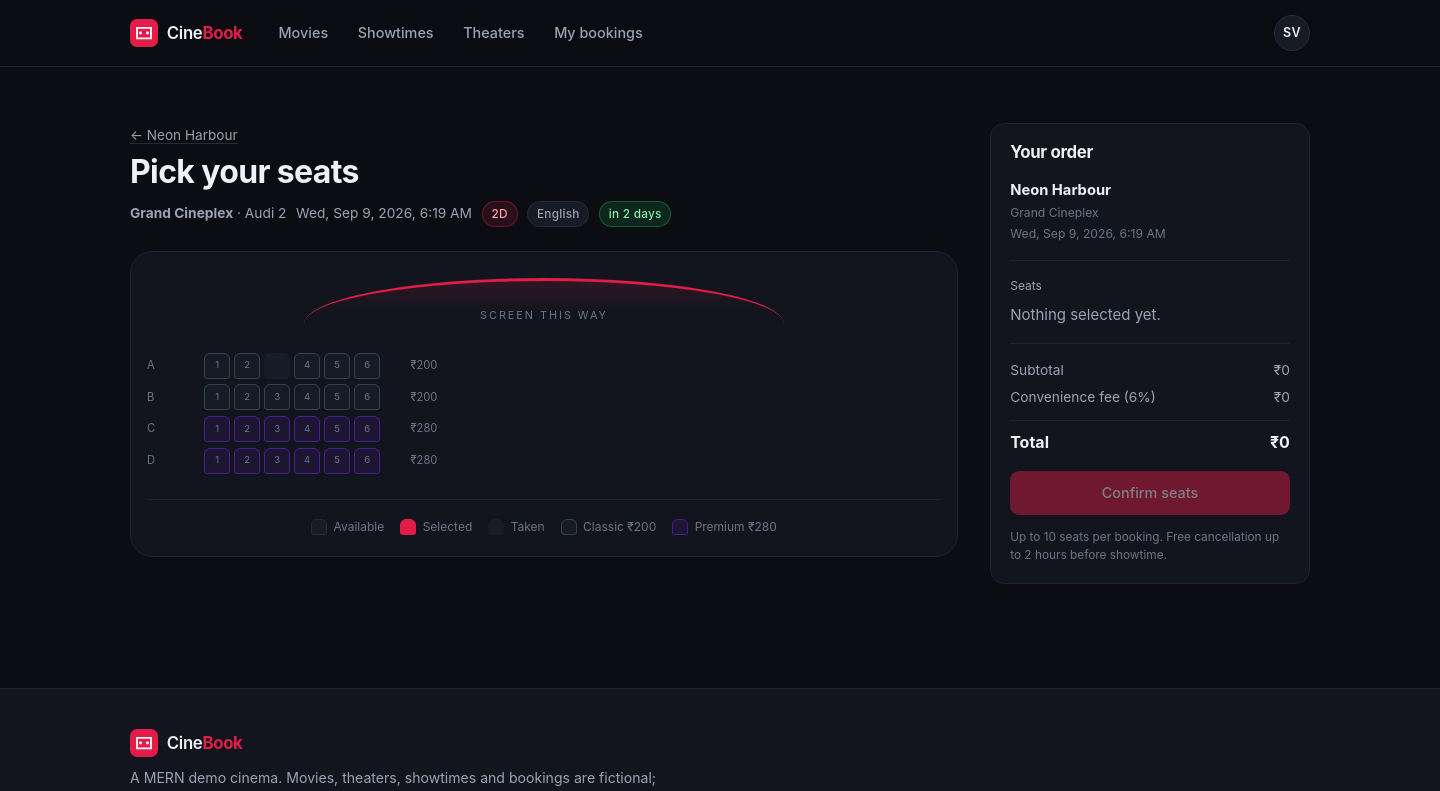
Test: seat booking › a seat taken mid-flow shows the conflict and drops it from the selection
This screenshot has width=1440, height=791.
Expected: the heading "Pick your seats" is shown, x1=130 y1=152 x2=359 y2=191
Click the 2nd button "4" at (307, 397), box x1=294 y1=384 x2=320 y2=410
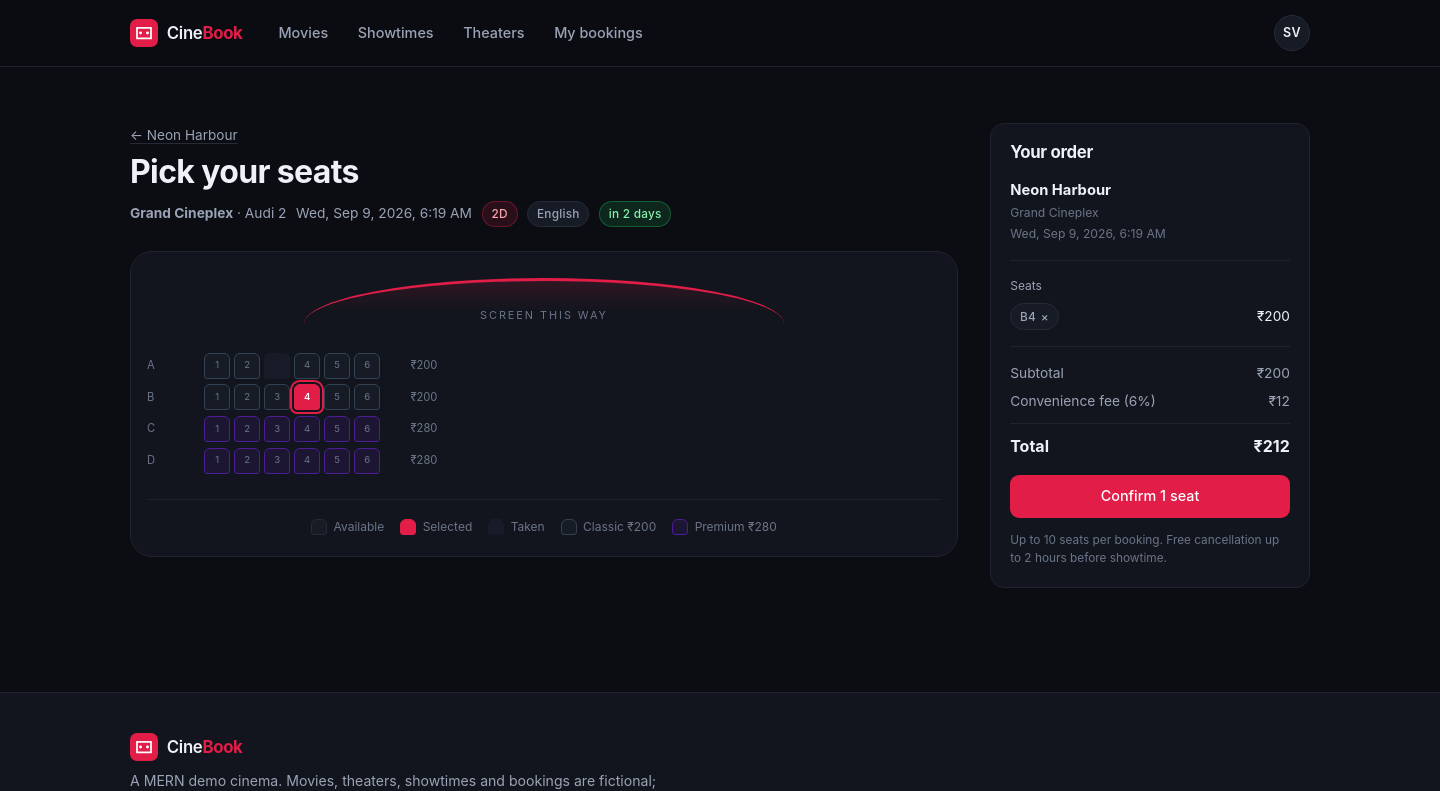
Click the button "Confirm 1 seat" at (1150, 496), box x1=1010 y1=475 x2=1290 y2=518
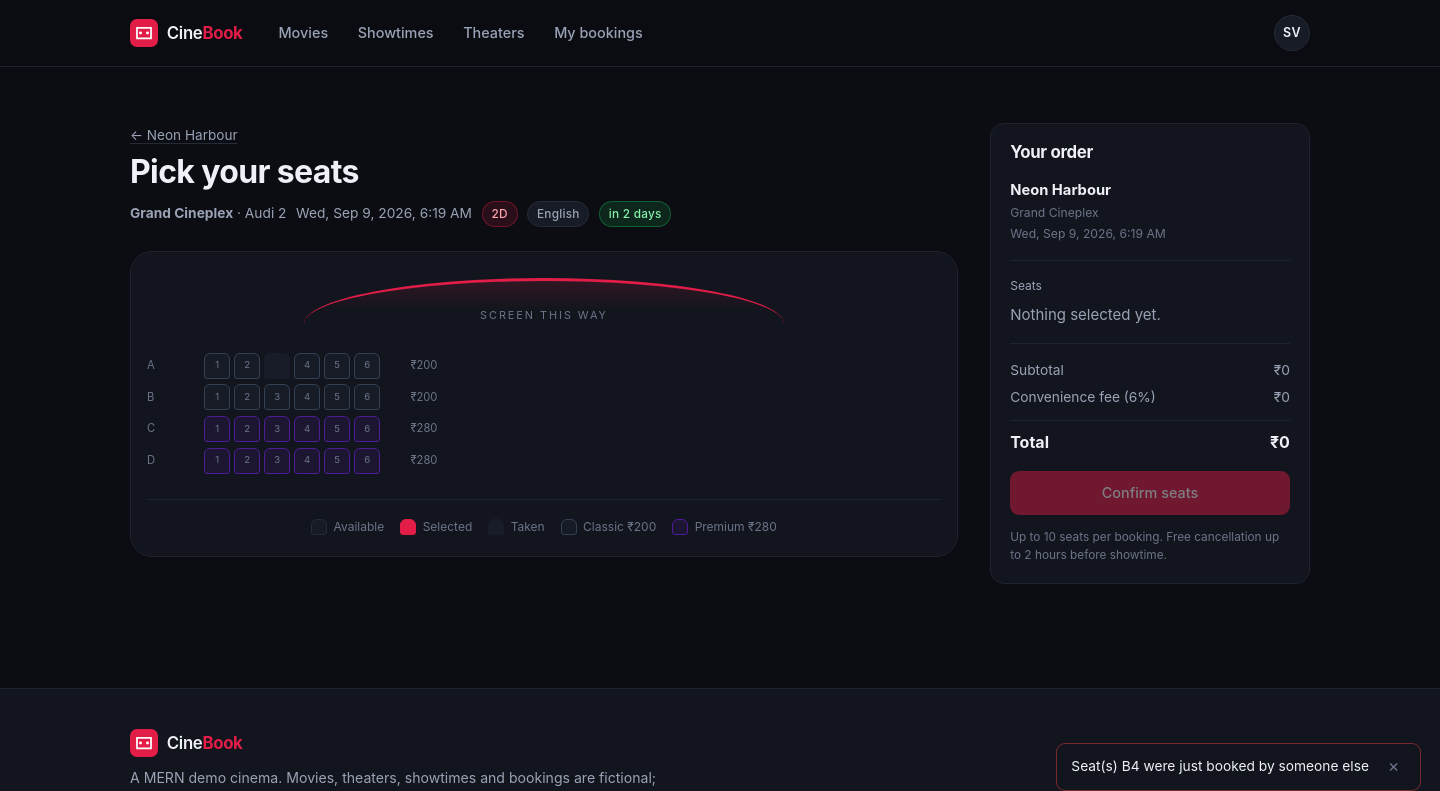
Expected: the text "Seat(s) B4 were just booked by someone else" is shown, x1=1071 y1=756 x2=1369 y2=778
